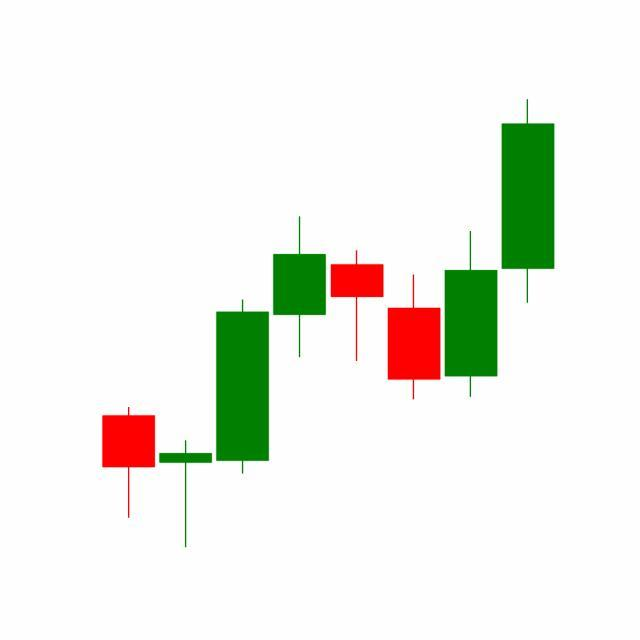Upside-Downside Gap Three Methods: (328, 230, 500, 403)
